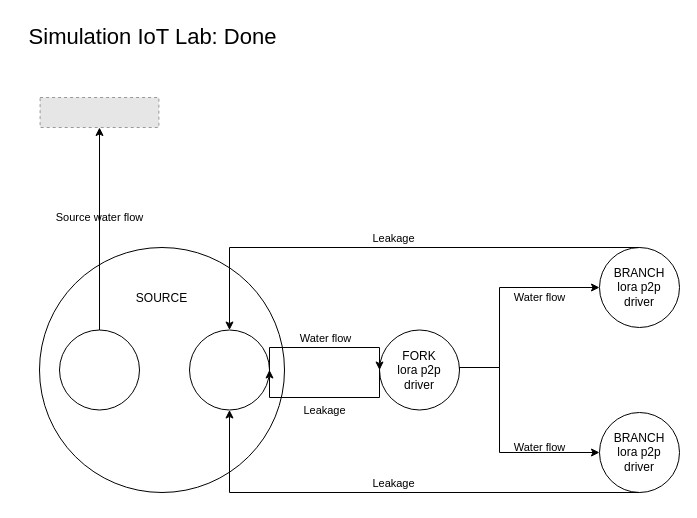
Some shapes in this 697 by 518 pixel diagram are drawn without their labels. Grey dashed boxes stand in for pictures. Here are the shapes that lost their labels. From the top down, the centre of each, then its label:
the point at 99,369: lora to ttn driver
the point at 229,369: lora p2p driver
